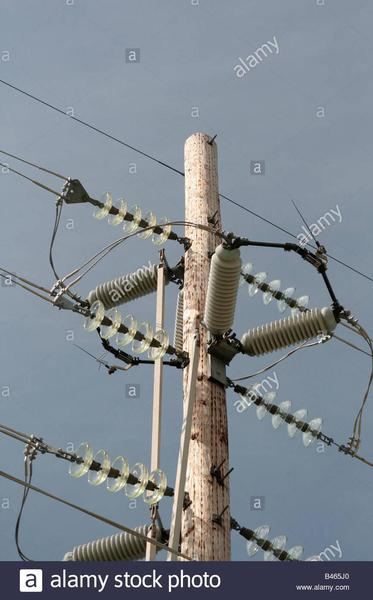isolator: (67, 441, 167, 504), (239, 382, 322, 447), (84, 300, 168, 359), (91, 191, 171, 246), (238, 262, 310, 316), (245, 524, 303, 561)
